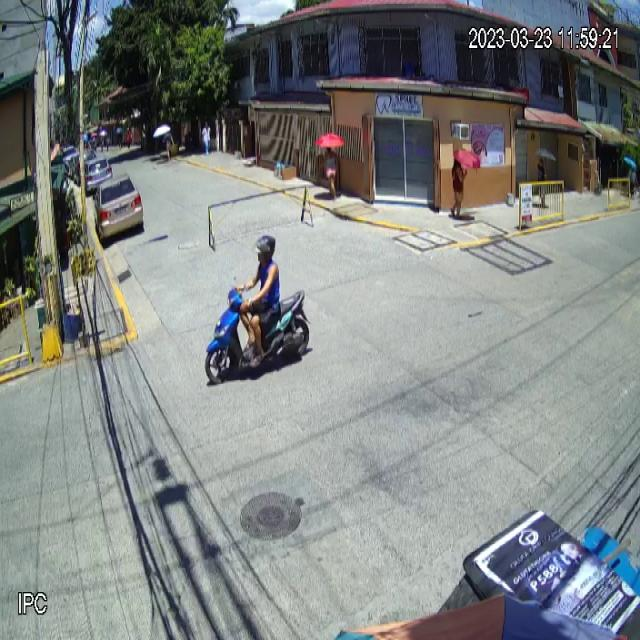Motorcycle: (202, 280, 314, 388)
